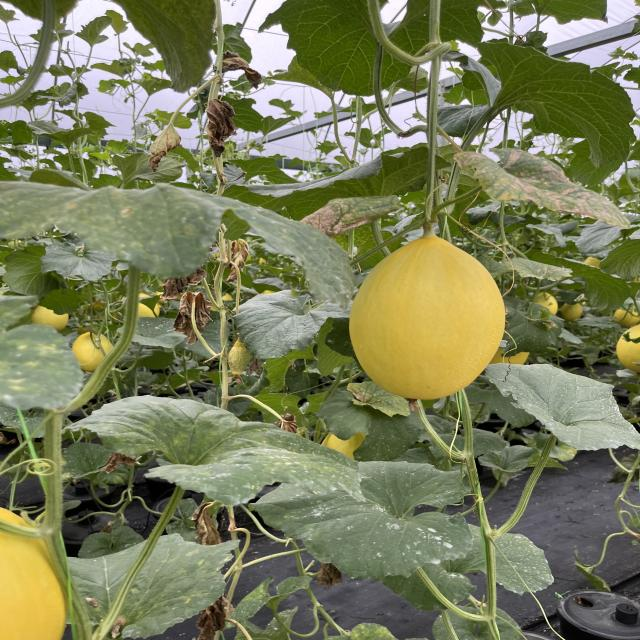alternaria leaf blight: (450, 145, 629, 230), (304, 196, 408, 238)
bacterial wilt: (196, 98, 240, 156), (222, 48, 270, 86), (147, 120, 178, 167)
downy mildew: (0, 173, 354, 302), (74, 393, 367, 515)
healthy: (452, 41, 635, 170)
powdery mildew: (271, 461, 471, 574), (484, 360, 637, 456)
